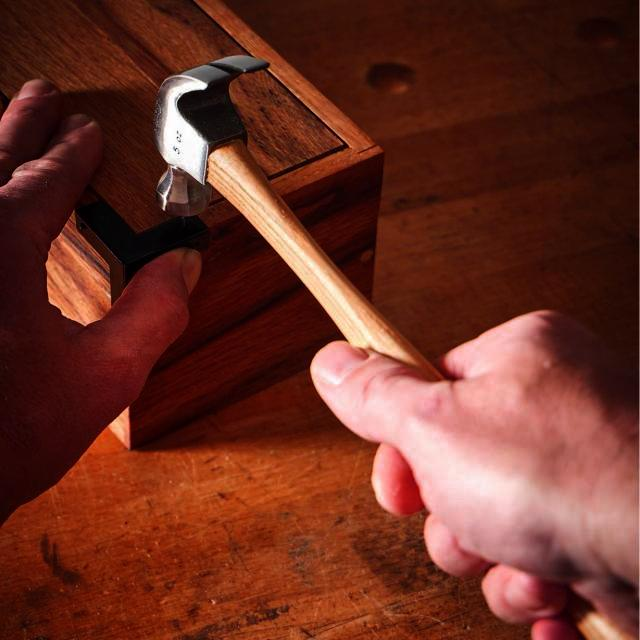hammer: (144, 40, 477, 479)
